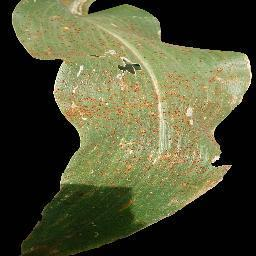Corn_Common_Rust: (58, 27, 255, 197), (16, 198, 194, 256), (57, 0, 164, 27), (7, 0, 56, 58)
